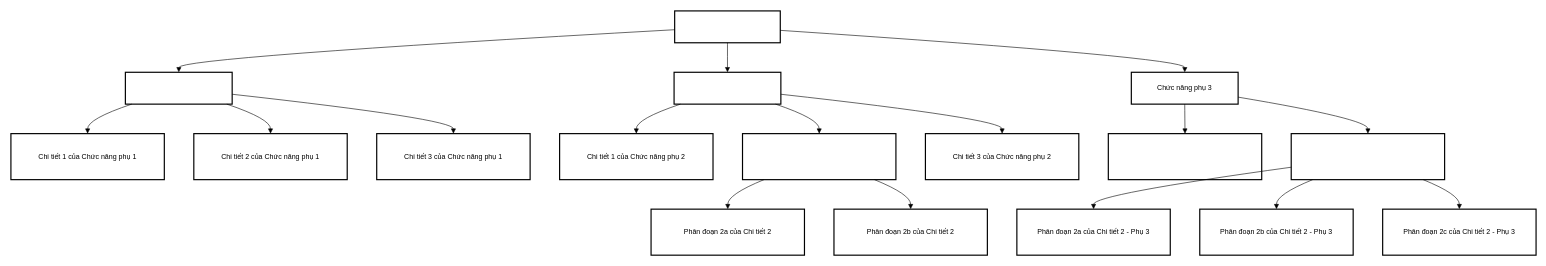
This 1546x266 diagram has some shape labels left out. Here are the shapes that lost their labels. From the top down, the box of each, then its label:
(674, 10, 781, 43): Chức năng chính
(124, 71, 232, 104): Chức năng phụ 1
(673, 71, 781, 104): Chức năng phụ 2
(742, 133, 896, 180): Chi tiết 2 của Chức năng phụ 2
(1107, 133, 1262, 180): Chi tiết 1 của Chức năng phụ 3
(1290, 133, 1445, 180): Chi tiết 2 của Chức năng phụ 3
